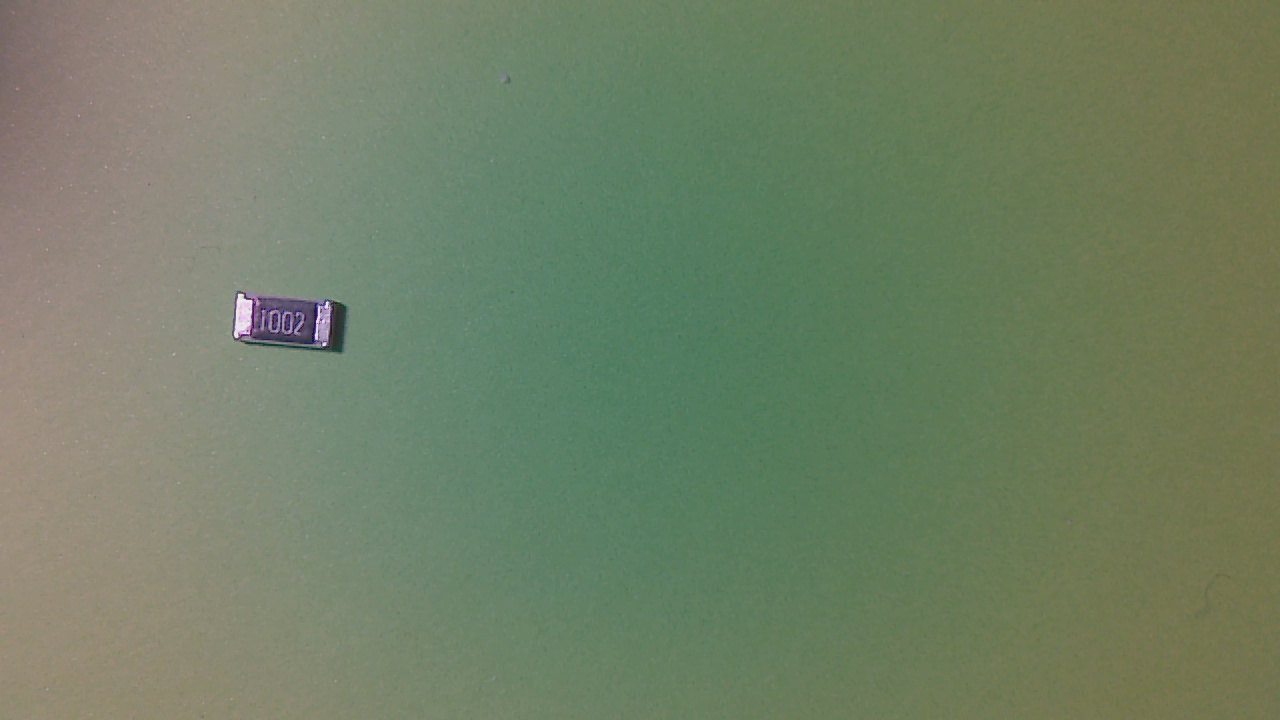Resistor: (230, 295, 348, 360)
